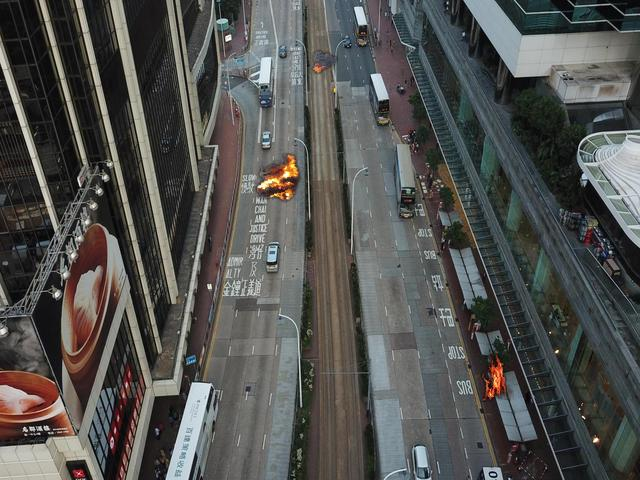fire: (256, 152, 300, 201), (479, 345, 512, 401), (310, 49, 336, 73)
